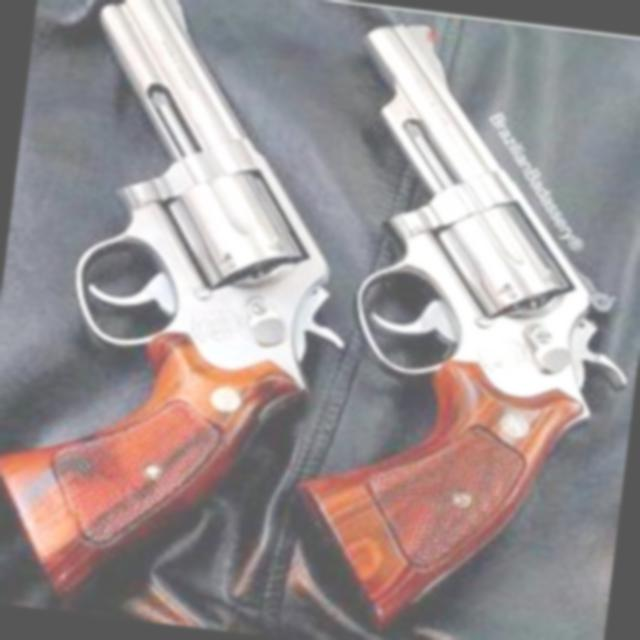revolver: (0, 0, 381, 638)
